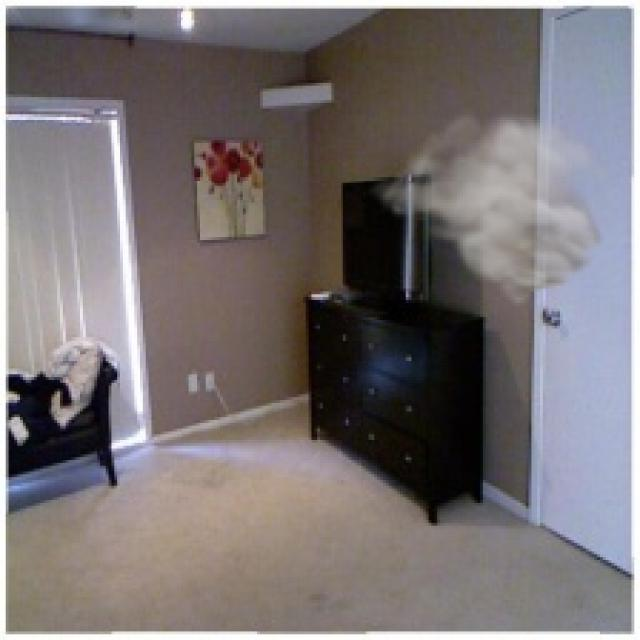Smoke: (363, 105, 626, 308)
